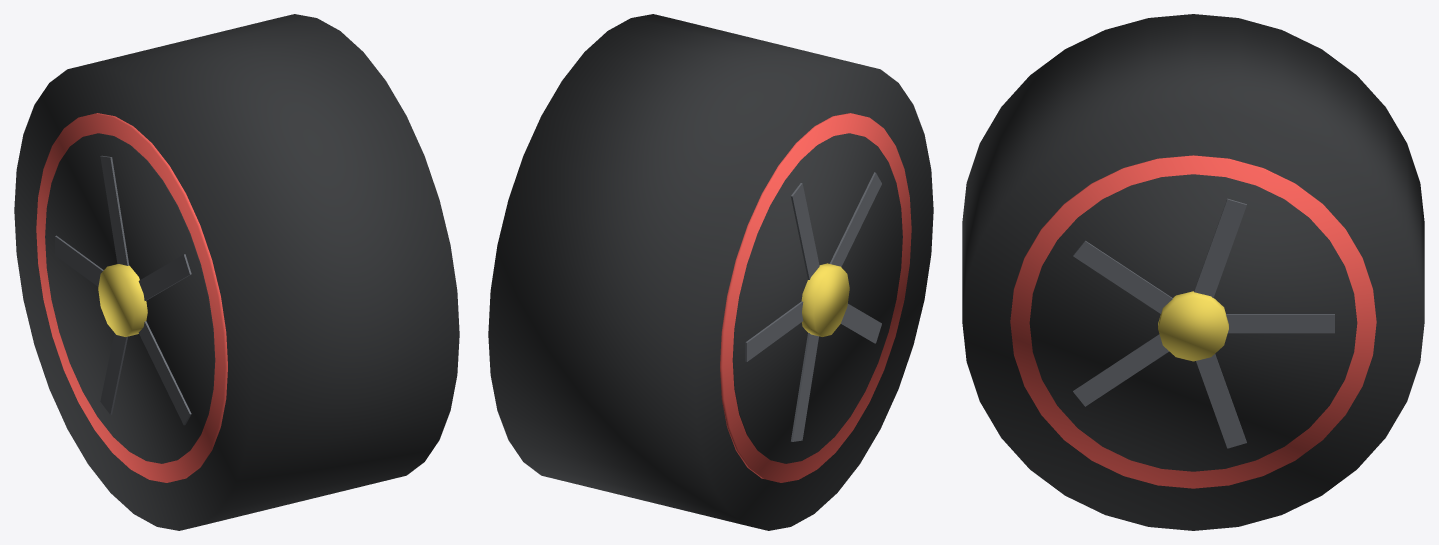
File: formula_wheel.glb
3 renders of one model, left to right at view 1: azimuth 30°, elevation 25°; view 2: azimuth 150°, elevation 25°; view 3: azimuth 270°, elevation 25°, orthographic. The views are drawn at different scales.
Parts seen in each view (by area): view 1: TireMain, SidewallInnerMask_-1, SidewallStripe_-1, CenterNut_-1, Spoke_-1_1, Spoke_-1_3, Spoke_-1_2, Spoke_-1_4, Spoke_-1_0; view 2: TireMain, SidewallInnerMask_-1, SidewallStripe_-1, CenterNut_-1, Spoke_-1_4, Spoke_-1_1, Spoke_-1_2, Spoke_-1_0, Spoke_-1_3; view 3: TireMain, SidewallInnerMask_1, SidewallStripe_1, CenterNut_1, Spoke_1_2, Spoke_1_0, Spoke_1_1, Spoke_1_3, Spoke_1_4.
Boxes of the visible parts, x1,y1,x2,y2 form: TireMain: (14, 14, 459, 530); SidewallInnerMask_-1: (45, 133, 215, 463); SidewallStripe_-1: (36, 113, 227, 482); CenterNut_-1: (98, 264, 147, 336); Spoke_-1_1: (100, 155, 129, 265); Spoke_-1_3: (138, 321, 191, 425); Spoke_-1_2: (138, 254, 191, 300); Spoke_-1_4: (100, 333, 127, 414); Spoke_-1_0: (55, 235, 103, 286); TireMain: (488, 14, 933, 530); SidewallInnerMask_-1: (732, 133, 902, 463); SidewallStripe_-1: (720, 113, 911, 482); CenterNut_-1: (801, 263, 849, 336); Spoke_-1_4: (791, 332, 818, 441); Spoke_-1_1: (791, 183, 819, 279); Spoke_-1_2: (829, 172, 881, 266); Spoke_-1_0: (745, 301, 803, 361); Spoke_-1_3: (841, 303, 881, 343); TireMain: (962, 14, 1424, 530); SidewallInnerMask_1: (1029, 174, 1357, 471); SidewallStripe_1: (1010, 155, 1376, 488); CenterNut_1: (1158, 291, 1228, 361); Spoke_1_2: (1073, 240, 1172, 313); Spoke_1_0: (1226, 314, 1334, 333); Spoke_1_1: (1194, 198, 1246, 297); Spoke_1_3: (1073, 334, 1168, 406); Spoke_1_4: (1196, 354, 1246, 448).
Bounding box in the file's own units: 0.42 × 0.72 × 0.72.
